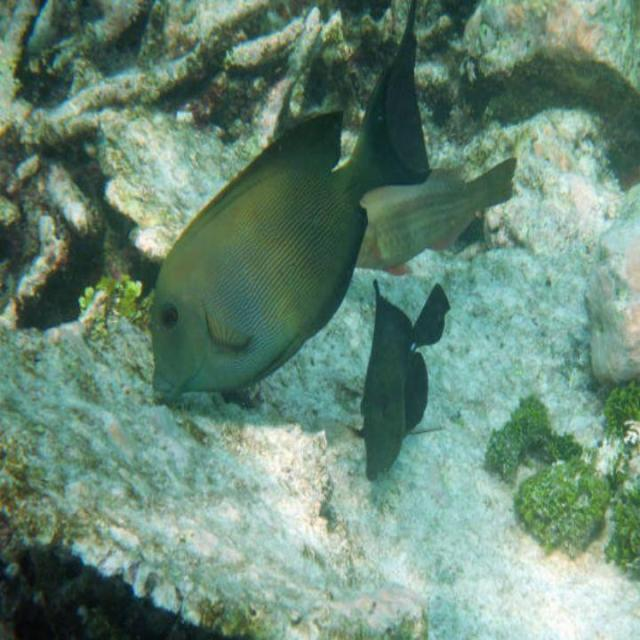Dead Coral: (0, 0, 487, 116), (0, 0, 148, 325)
